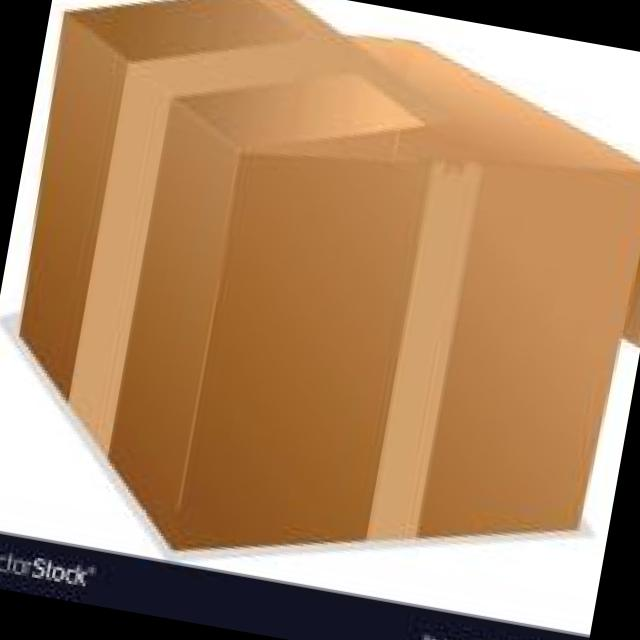box: (18, 0, 640, 552)
